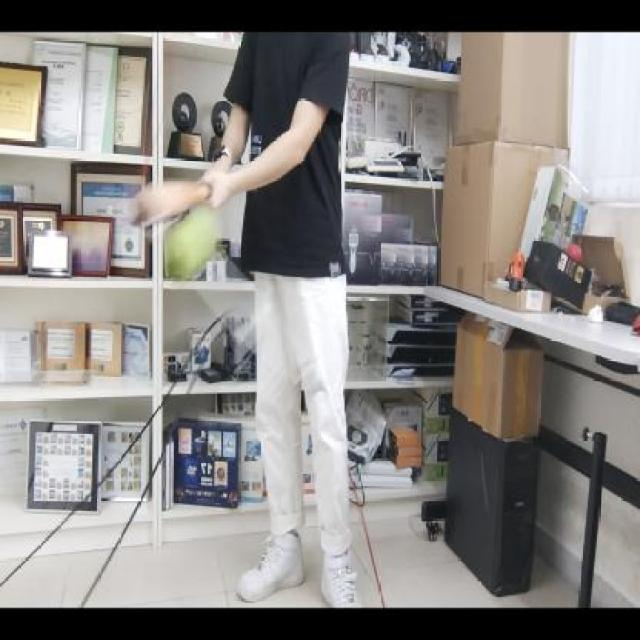baseball: (162, 206, 221, 282)
